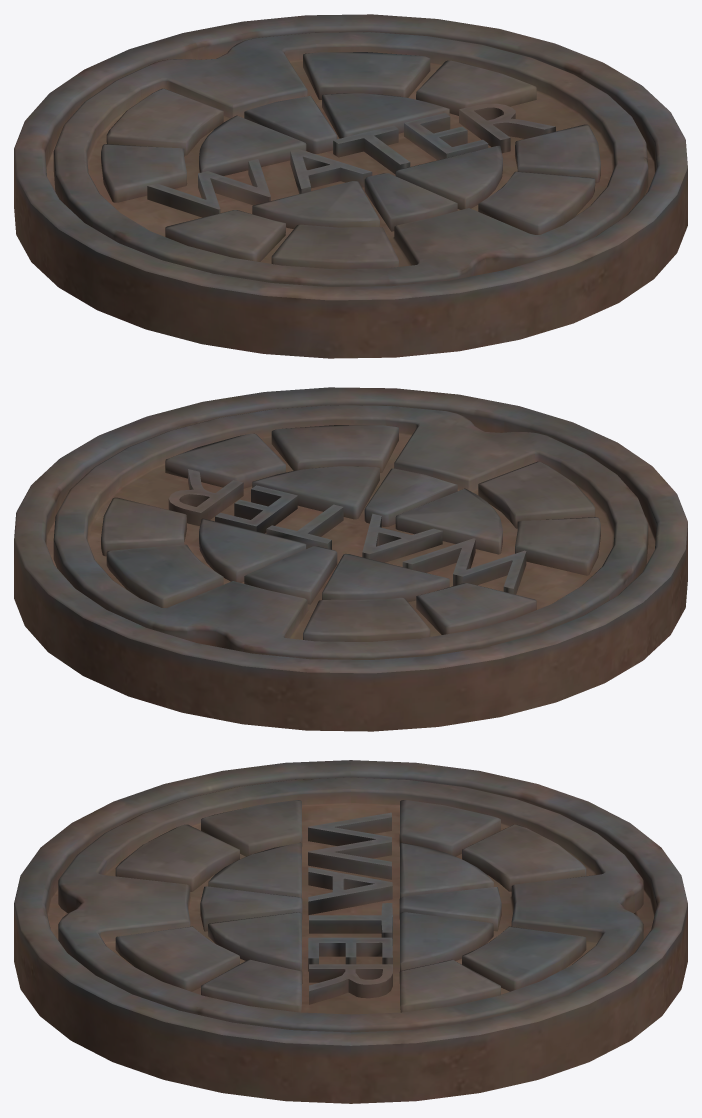
File: ph-water_manhole_cover.glb
The picture shows the model from 3 angles, top to bottom: view 1: azimuth 30°, elevation 25°; view 2: azimuth 150°, elevation 25°; view 3: azimuth 270°, elevation 25°; orthographic projection.
Parts seen in each view (by area): view 1: water_manhole_cover_frame; view 2: water_manhole_cover_frame; view 3: water_manhole_cover_frame.
Boxes of the visible parts, <box> form: water_manhole_cover_frame: <box>14,14,687,358</box>; water_manhole_cover_frame: <box>14,387,687,731</box>; water_manhole_cover_frame: <box>14,760,687,1103</box>.
Size of the model in its own units: 0.6908 by 0.0676 by 0.6908.
1 material, 1 textured.
